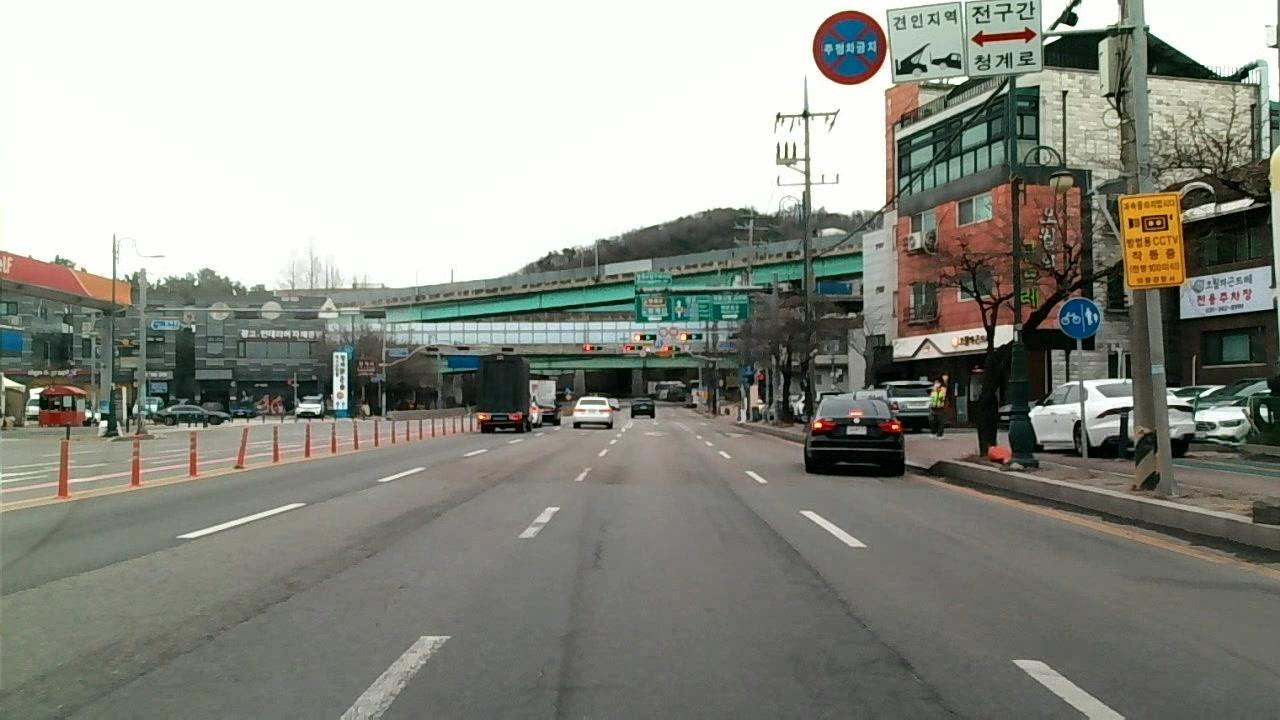vcrack: (40, 638, 209, 720), (206, 554, 372, 634), (845, 608, 949, 709), (753, 506, 845, 604)
